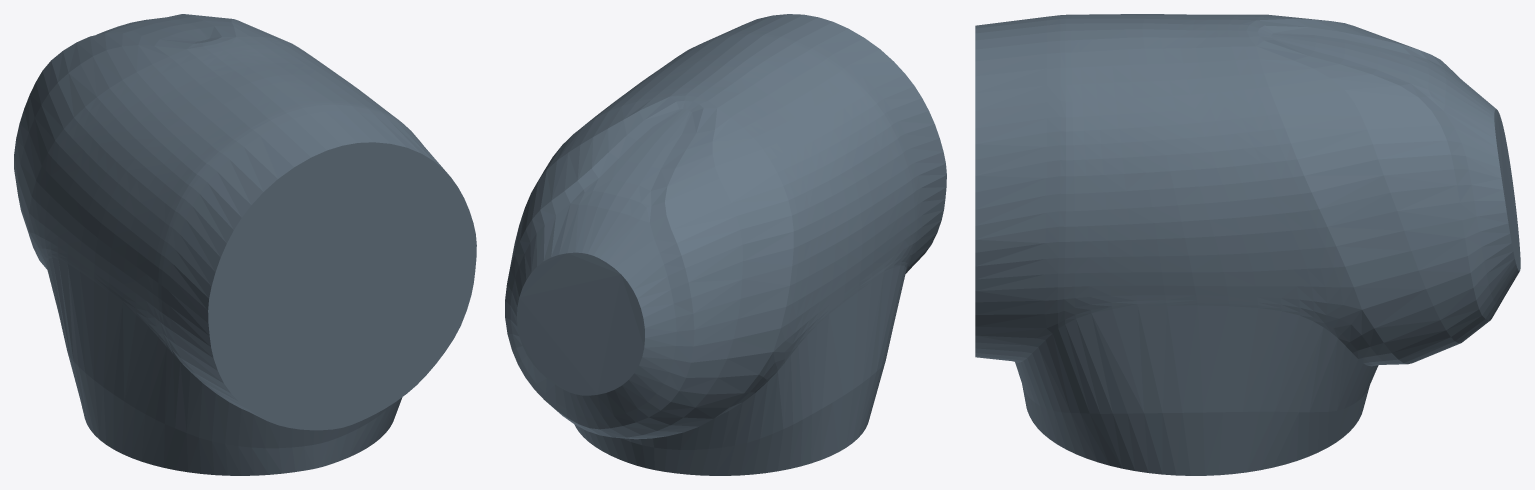
3 renders of one model, left to right at view 1: azimuth 30°, elevation 25°; view 2: azimuth 150°, elevation 25°; view 3: azimuth 270°, elevation 25°, orthographic. The views are drawn at different scales.
Visible parts, largest first — view 1: MF0609_4_1; view 2: MF0609_4_1; view 3: MF0609_4_1.
Boxes of the visible parts, x1,y1,x2,y2 form: MF0609_4_1: (14,14,476,475); MF0609_4_1: (505,14,946,475); MF0609_4_1: (975,14,1520,475).
Size of the model in its own units: 108 by 163 by 124.
